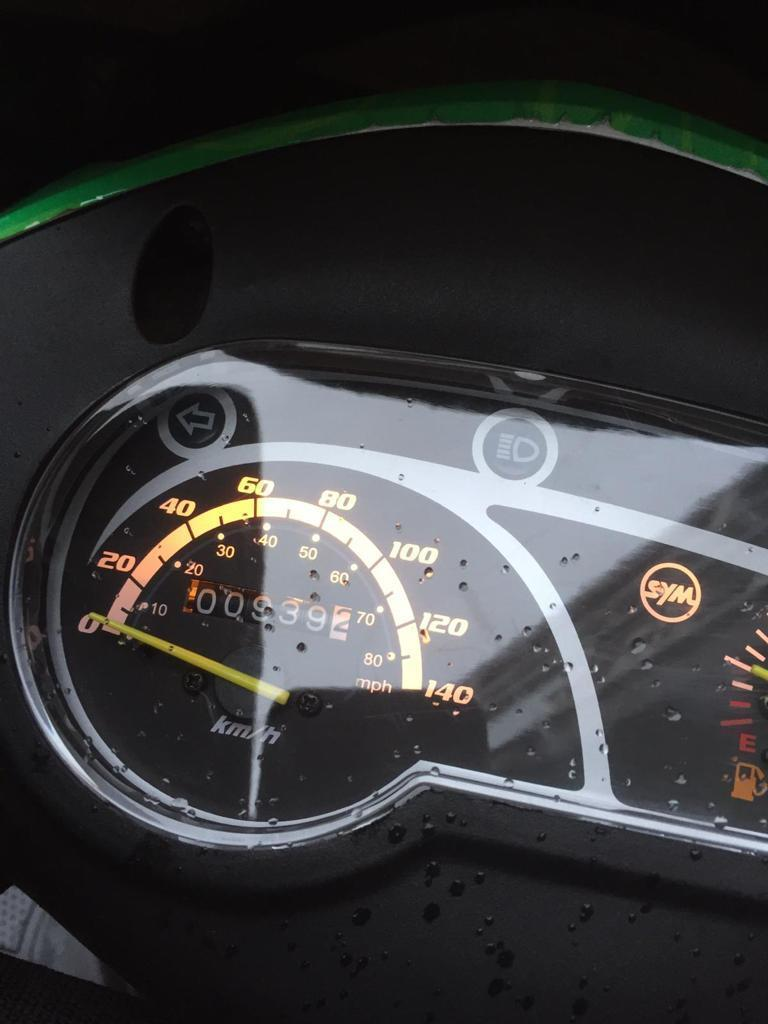0: (191, 584, 216, 617), (223, 588, 244, 620), (339, 571, 349, 586)
2: (333, 606, 353, 635)
3: (278, 598, 300, 627)
6: (329, 569, 339, 584)
9: (304, 602, 328, 633), (250, 593, 272, 622)
odometer: (175, 573, 354, 644)
